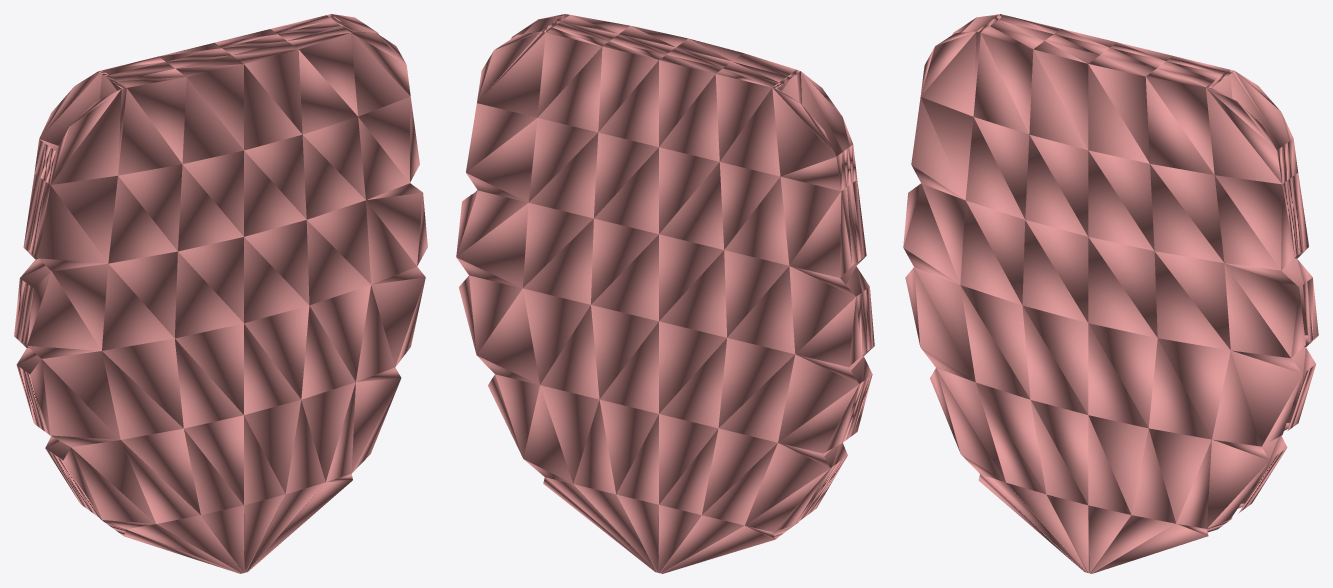
File: item_shield.fbx
3 views of the same model, side by side, from view 1: azimuth 30°, elevation 25°; view 2: azimuth 150°, elevation 25°; view 3: azimuth 330°, elevation 25° (orthographic).
Parts seen in each view (by area): view 1: Mesh1; view 2: Mesh1; view 3: Mesh1.
Boxes of the visible parts, x1=… form: Mesh1: x1=14, y1=14, x2=427, y2=573; Mesh1: x1=456, y1=14, x2=874, y2=573; Mesh1: x1=903, y1=14, x2=1318, y2=573.
Size of the model in its own units: 18.58 by 22.49 by 2.38.
